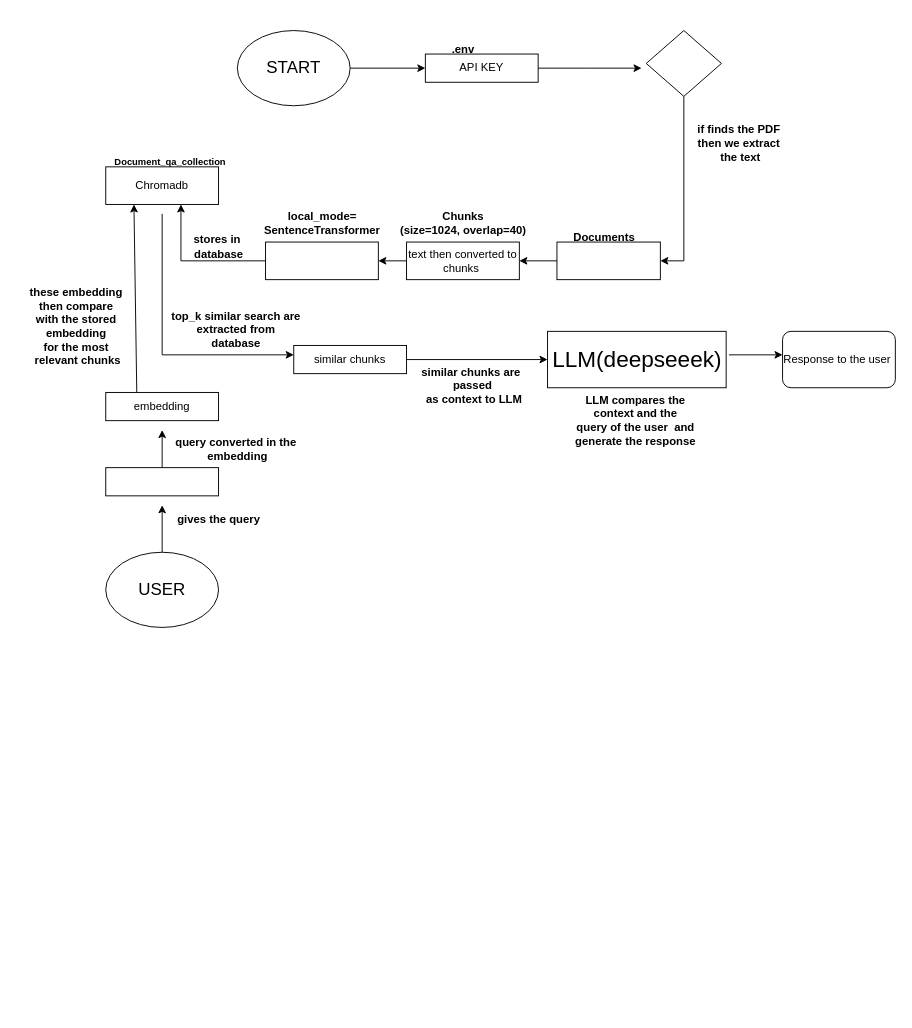
Some shapes in this 912 by 1028 pixel diagram are drawn without their labels. Here are the shapes that lost their labels. From the top down, the centre of each, then its label:
At pixel 683 63: "if PDF".
At pixel 321 260: "chunks converted in embedding".
At pixel 608 260: "Extract text according to pages".
At pixel 162 481: "Query".
